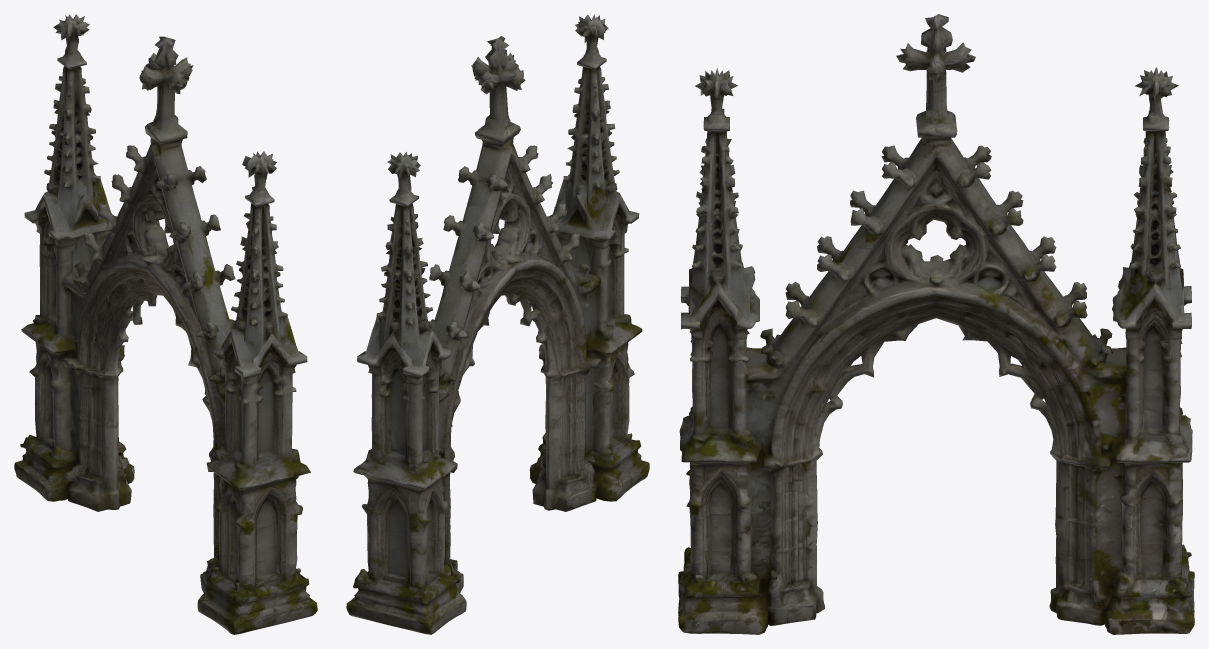
Rendered from gothic_arch.glb.
3 views of the same model, side by side, from view 1: azimuth 30°, elevation 25°; view 2: azimuth 150°, elevation 25°; view 3: azimuth 270°, elevation 25° (orthographic). The views are drawn at different scales.
Parts seen in each view (by area): view 1: tripo_node_46061886-f36c-4244-b02b-5b40f81f55c1; view 2: tripo_node_46061886-f36c-4244-b02b-5b40f81f55c1; view 3: tripo_node_46061886-f36c-4244-b02b-5b40f81f55c1.
Part boxes in pixels (bbox=[...]): tripo_node_46061886-f36c-4244-b02b-5b40f81f55c1: bbox=[14, 14, 317, 634]; tripo_node_46061886-f36c-4244-b02b-5b40f81f55c1: bbox=[346, 14, 649, 634]; tripo_node_46061886-f36c-4244-b02b-5b40f81f55c1: bbox=[678, 14, 1194, 634].
Size of the model in its own units: 0.1818 by 1 by 0.7859.
Materials: 1 (1 with a texture image).
